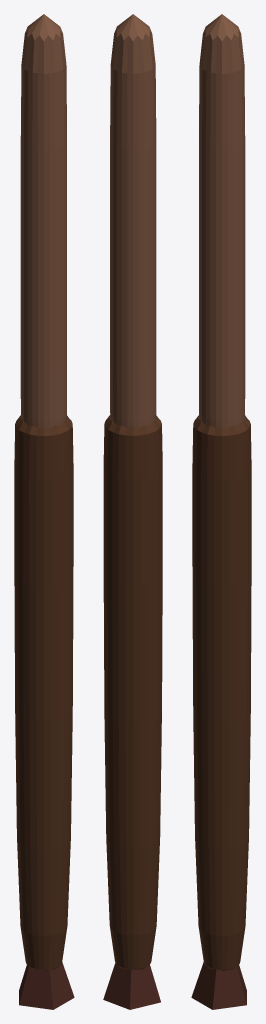
The model's file is Wand 18.glb.
3 renders of one model, left to right at view 1: azimuth 90°, elevation 25°; view 2: azimuth 210°, elevation 25°; view 3: azimuth 270°, elevation 25°, orthographic.
Visible parts, largest first — view 1: GeneratedWand; view 2: GeneratedWand; view 3: GeneratedWand.
Boxes of the visible parts, x1,y1,x2,y2 form: GeneratedWand: (14, 14, 74, 1009); GeneratedWand: (103, 14, 162, 1009); GeneratedWand: (191, 14, 251, 1009).
Size of the model in its own units: 0.0273 by 0.5001 by 0.0278.
